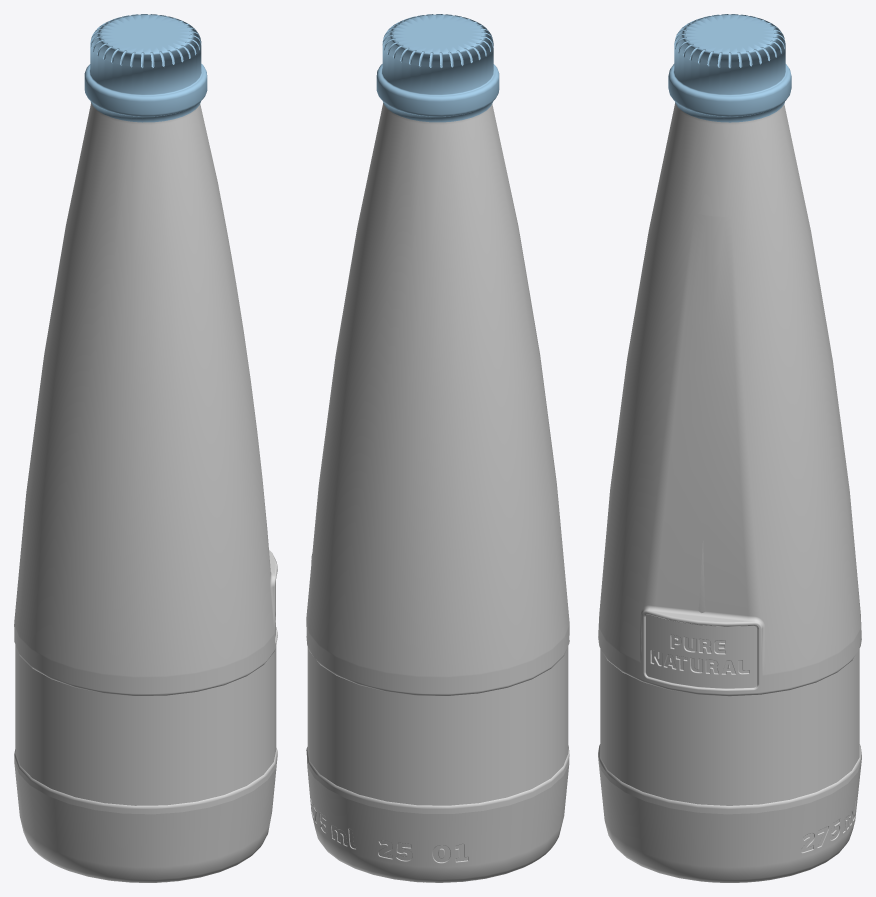
File: typetwo.glb
3 views of the same model, side by side, from view 1: azimuth 30°, elevation 25°; view 2: azimuth 150°, elevation 25°; view 3: azimuth 270°, elevation 25° (orthographic).
Parts seen in each view (by area): view 1: stitch_result_stitch all, qapoq; view 2: stitch_result_stitch all, qapoq; view 3: stitch_result_stitch all, qapoq.
Part boxes in pixels (box(x1,y1,x2,y2)): stitch_result_stitch all: box(14, 103, 277, 882); qapoq: box(84, 14, 207, 122); stitch_result_stitch all: box(306, 103, 569, 882); qapoq: box(376, 14, 499, 122); stitch_result_stitch all: box(598, 103, 861, 882); qapoq: box(668, 14, 791, 122).
Bounding box in the file's own units: 0.061 × 0.2041 × 0.061.
